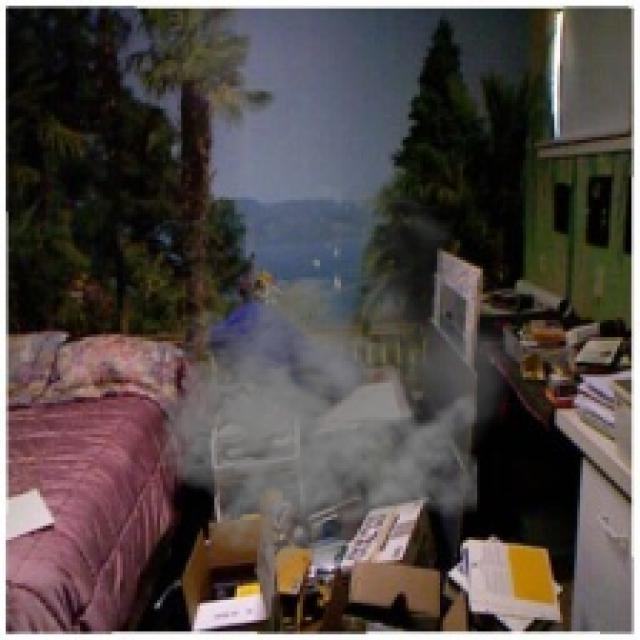smoke: (134, 172, 526, 574)
